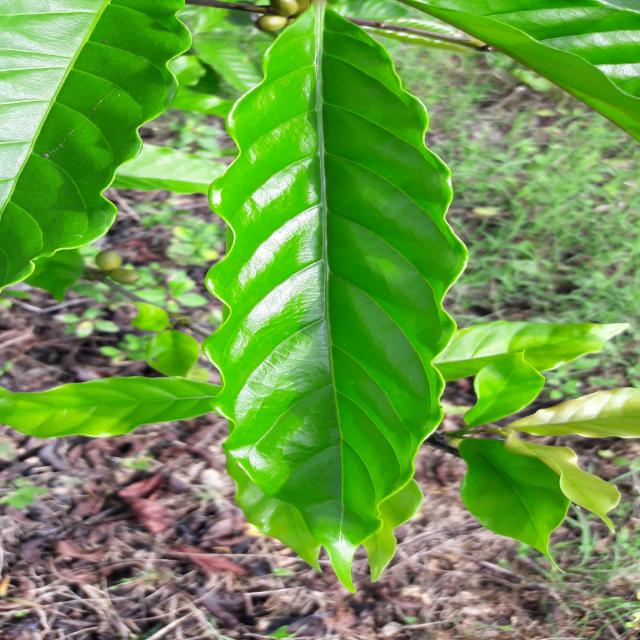Sanas: (203, 2, 468, 579)
